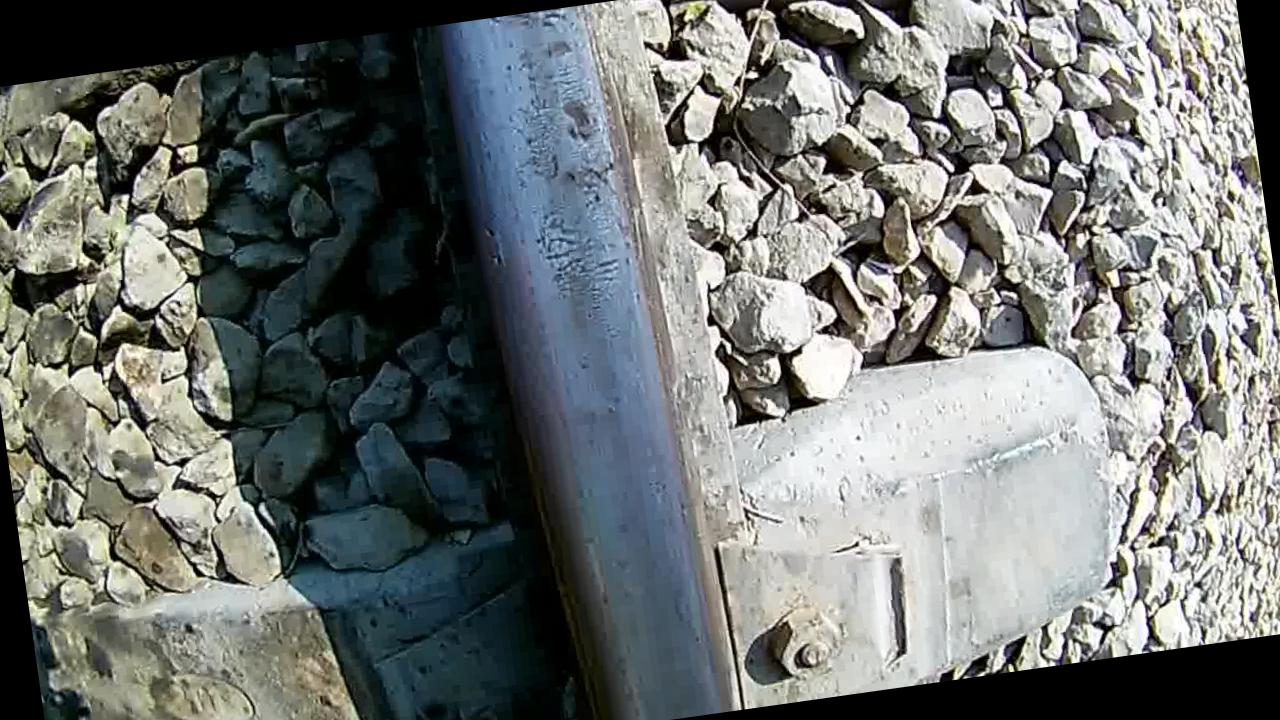crack: (434, 0, 730, 720)
